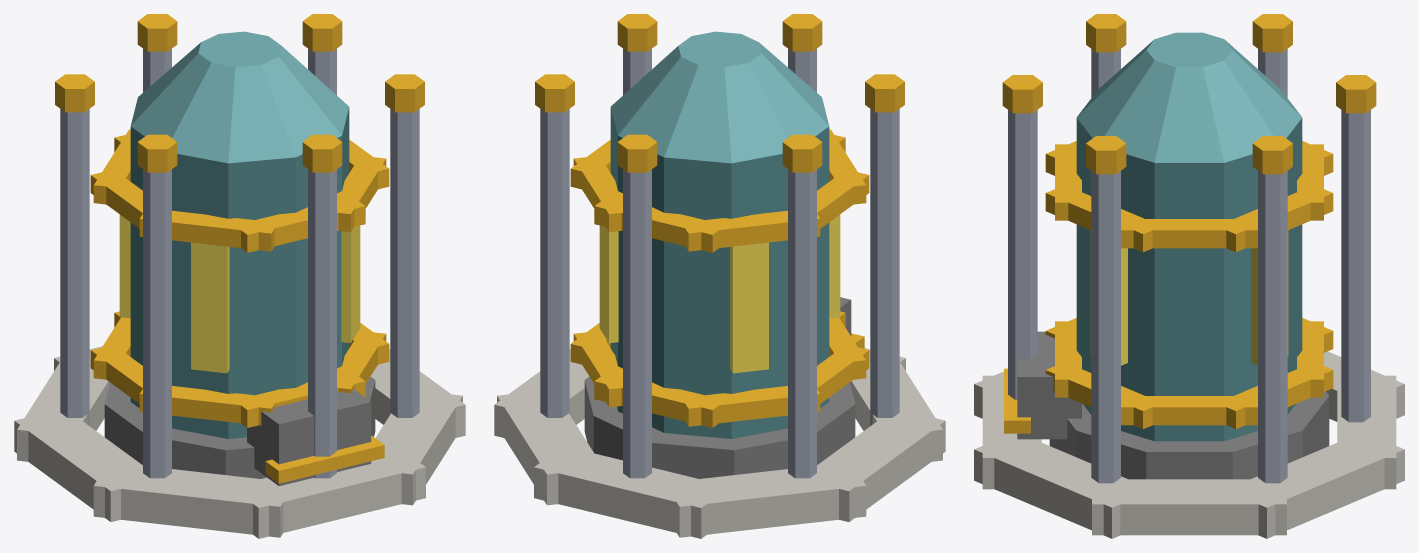
The model's file is reactor.glb.
3 views of the same model, side by side, from view 1: azimuth 30°, elevation 25°; view 2: azimuth 150°, elevation 25°; view 3: azimuth 270°, elevation 25° (orthographic).
Visible parts, largest first — view 1: reactor; view 2: reactor; view 3: reactor.
Boxes of the visible parts, x1,y1,x2,y2 form: reactor: [14, 14, 465, 538]; reactor: [494, 14, 945, 538]; reactor: [974, 14, 1404, 538].
Size of the model in its own units: 1.5 by 1.53 by 1.5.
